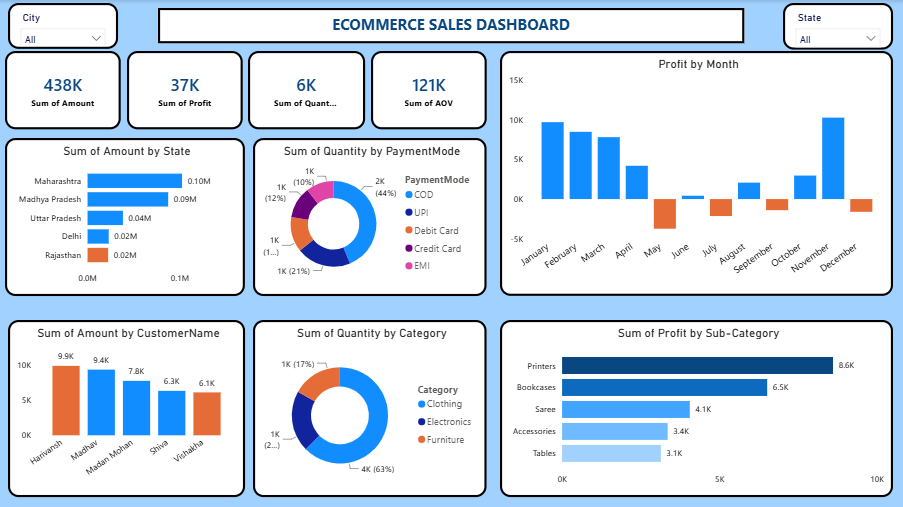

The page's visual inventory and layout, read from the dashboard file:
{"tool":"powerbi","page":{"name":"Page 1","canvas":[1280,720],"ordinal":0},"visuals":[{"type":"textbox","box":[223.9,11.3,830.6,49.6],"z":0},{"type":"columnChart","title":"Profit by Month","fields":{"Category":["Orders.Order Date.Variation.Date Hierarchy.Month"],"Y":["Sum(Details.Profit)"]},"box":[708.6,72.9,557.1,347.1],"z":1000},{"type":"barChart","fields":{"Category":["Details.Sub-Category"],"Y":["Sum(Details.Profit)"]},"box":[708.6,452.9,557.1,251.4],"z":2000},{"type":"donutChart","fields":{"Category":["Details.Category"],"Y":["Sum(Details.Quantity)"]},"box":[358.6,452.9,331.4,251.4],"z":3000},{"type":"donutChart","fields":{"Category":["Details.PaymentMode"],"Y":["Sum(Details.Quantity)"]},"box":[358.6,195.7,331.4,224.3],"z":4000},{"type":"cardVisual","fields":{"Data":["Sum(Details.Amount)"]},"box":[7.1,72.9,164.3,111.4],"z":5000},{"type":"columnChart","fields":{"Category":["Orders.CustomerName"],"Y":["Sum(Details.Amount)"]},"box":[11.4,452.9,335.7,251.4],"z":6000},{"type":"cardVisual","fields":{"Data":["Sum(Details.Profit)"]},"box":[180,72.9,164.3,111.4],"z":7000},{"type":"cardVisual","fields":{"Data":["Sum(Details.Quantity)"]},"box":[351,72.9,165.7,111.4],"z":8000},{"type":"cardVisual","fields":{"Data":["Sum(Details.AOV)"]},"box":[525.7,72.9,164.3,111.4],"z":9000},{"type":"barChart","fields":{"Category":["Orders.State"],"Y":["Sum(Details.Amount)"]},"box":[7.1,195.7,340,224.3],"z":10000},{"type":"slicer","fields":{"Values":["Orders.State"]},"box":[1110,4.3,155.7,65.7],"z":11000},{"type":"slicer","fields":{"Values":["Orders.City"]},"box":[11.3,4.3,155.9,65.2],"z":11001}]}

Visuals, with their boxes in screenshot pixels (x1, y1, x2, y2), scaled from the page's 1280x720 canvas onto the 903x507 screenshot:
textbox: [158, 8, 744, 43]
"Profit by Month" columnChart: [500, 51, 893, 296]
barChart - Details.Sub-Category x Sum(Details.Profit): [500, 319, 893, 496]
donutChart - Details.Category x Sum(Details.Quantity): [253, 319, 487, 496]
donutChart - Details.PaymentMode x Sum(Details.Quantity): [253, 138, 487, 296]
cardVisual - Sum(Details.Amount): [5, 51, 121, 130]
columnChart - Orders.CustomerName x Sum(Details.Amount): [8, 319, 245, 496]
cardVisual - Sum(Details.Profit): [127, 51, 243, 130]
cardVisual - Sum(Details.Quantity): [248, 51, 365, 130]
cardVisual - Sum(Details.AOV): [371, 51, 487, 130]
barChart - Orders.State x Sum(Details.Amount): [5, 138, 245, 296]
slicer - Orders.State: [783, 3, 893, 49]
slicer - Orders.City: [8, 3, 118, 49]
